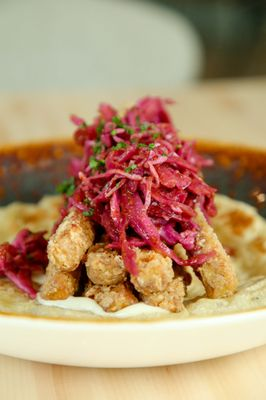soup: (8, 94, 239, 314)
